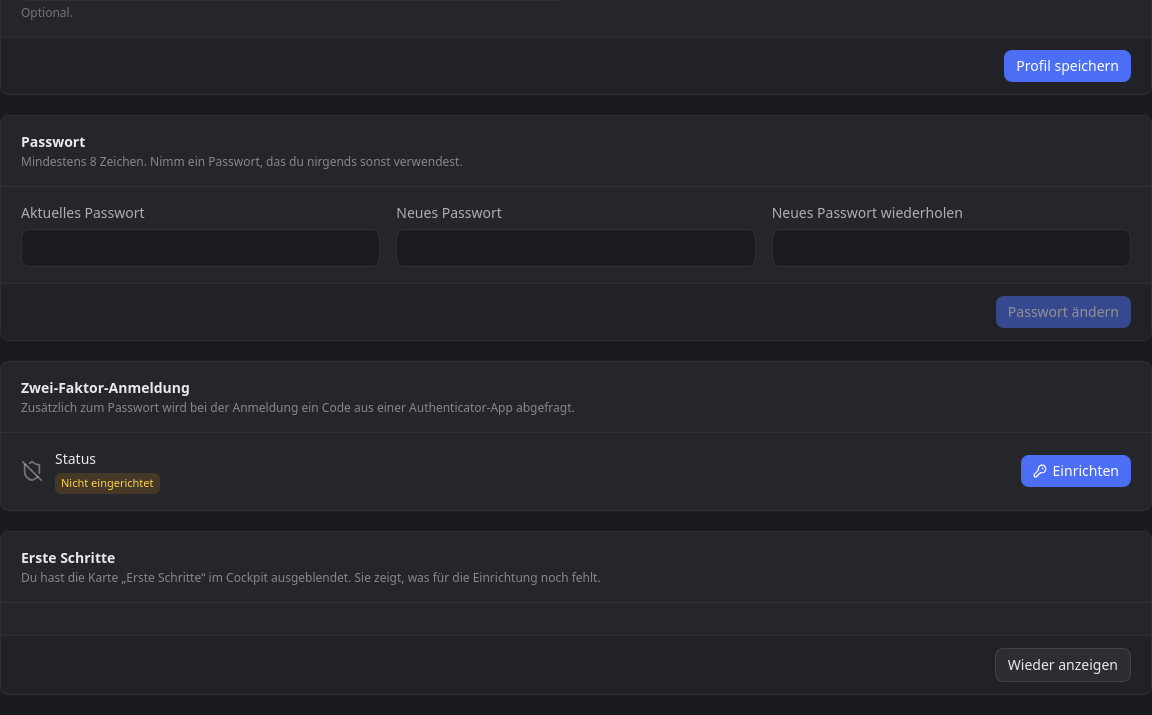
Test case: Einstellungen › Mein Konto: ausgeblendete Erste Schritte lassen sich wieder anzeigen
(page scrolled)
Click the button "Wieder anzeigen": (1063, 664) left=995, top=648, right=1131, bottom=682
(page scrolled)
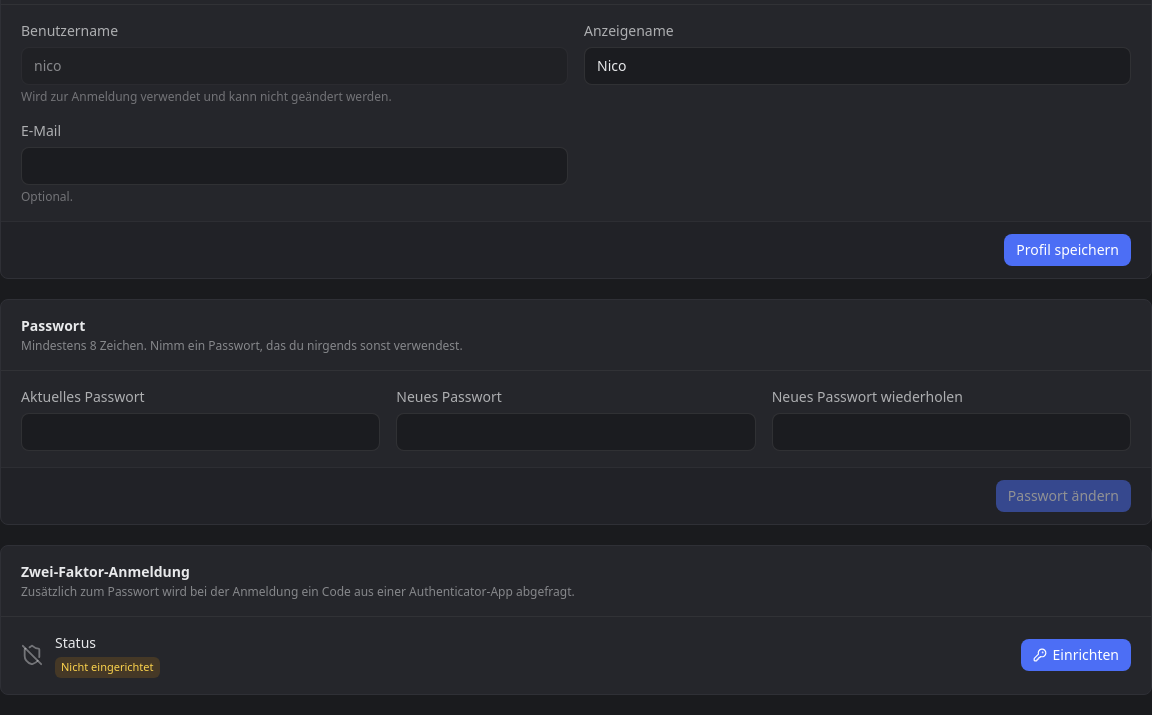
Result: the button "Wieder anzeigen" is gone
